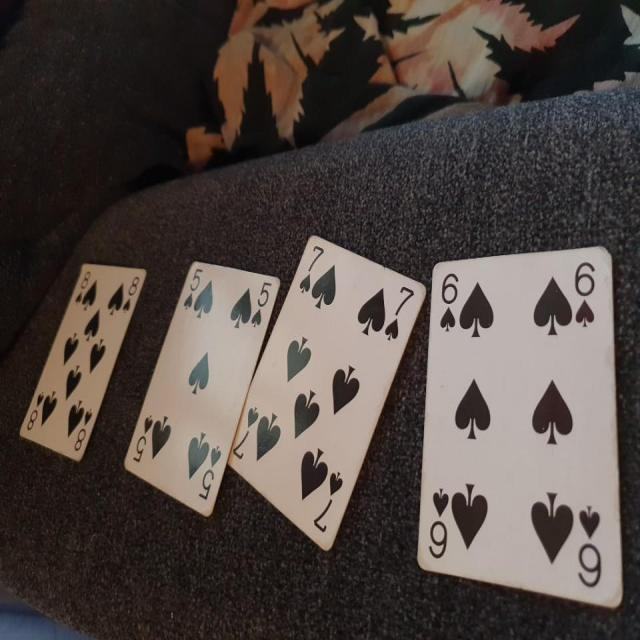5 Spades: (118, 257, 285, 516)
6 Spades: (418, 230, 627, 611)
7 Spades: (220, 226, 439, 560)
8 Spades: (11, 251, 156, 469)
